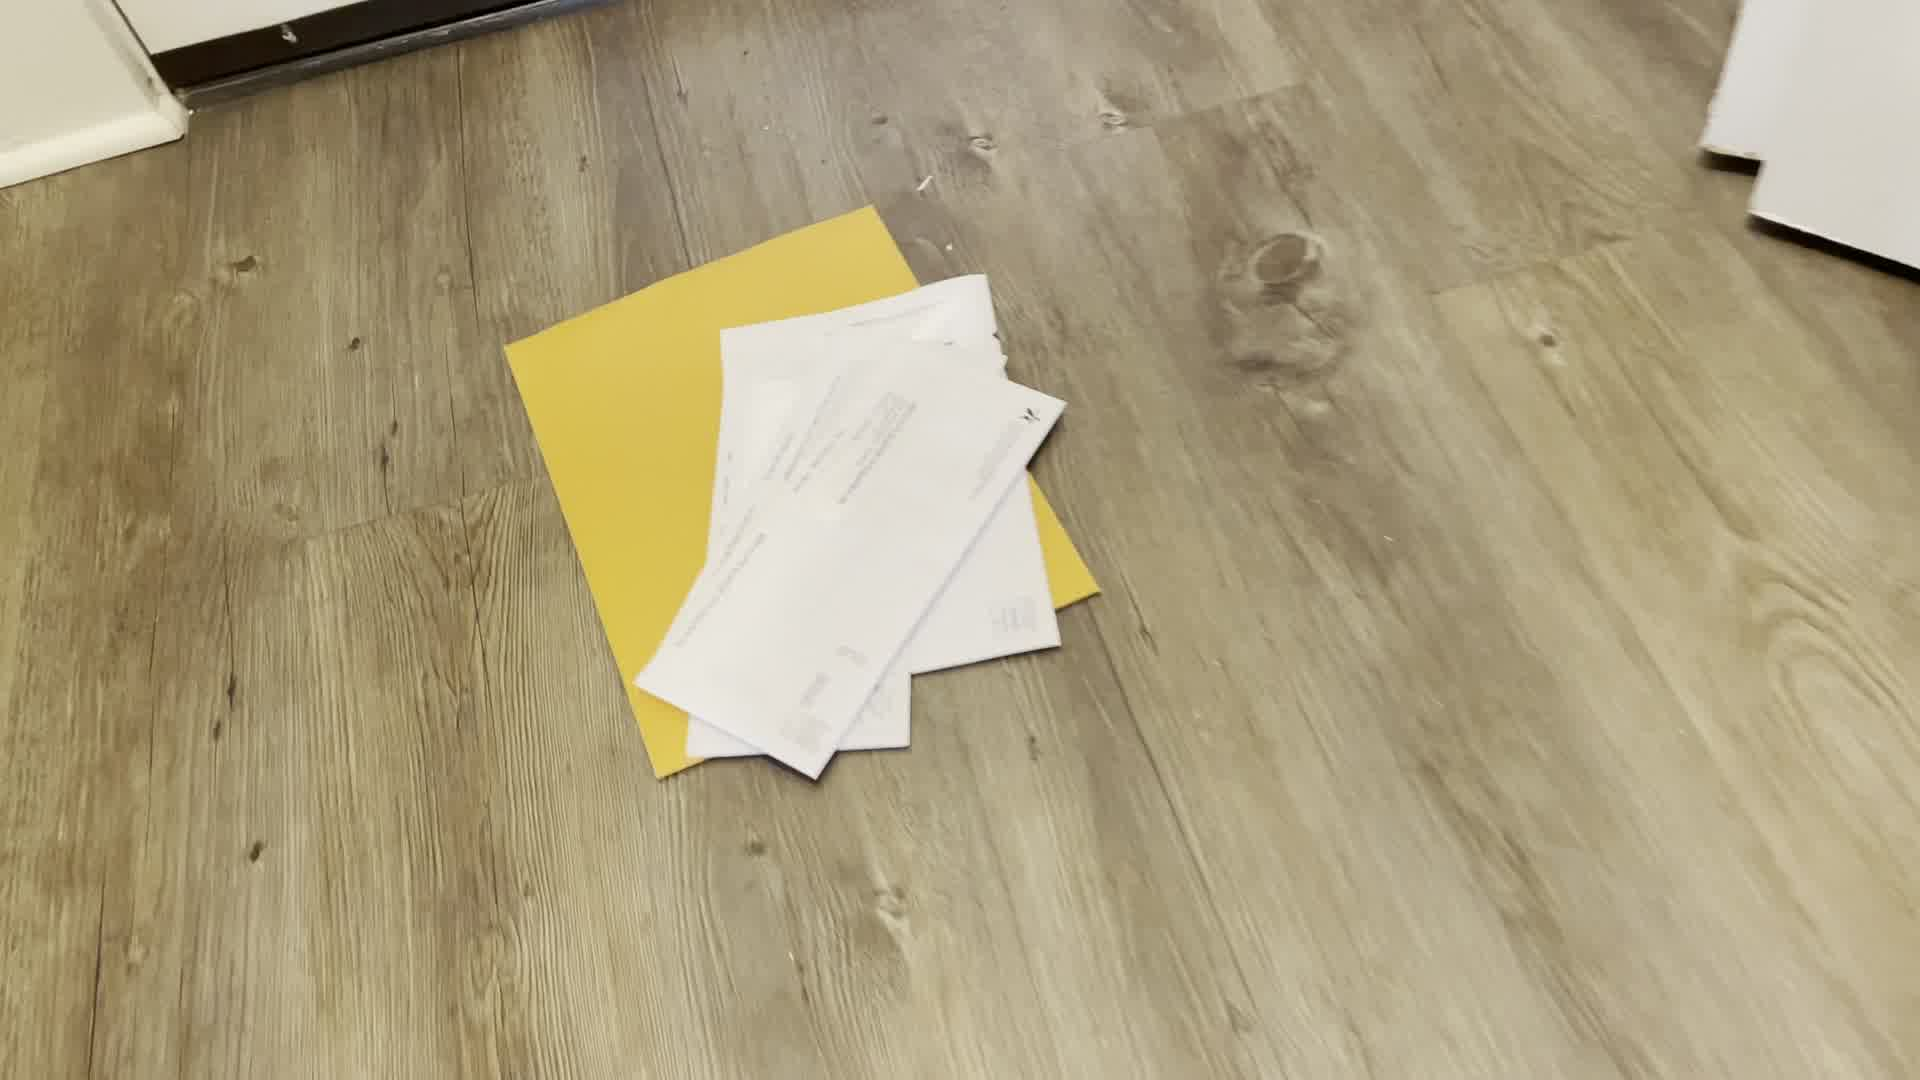envelope: (497, 196, 1098, 807), (626, 330, 1073, 790)
